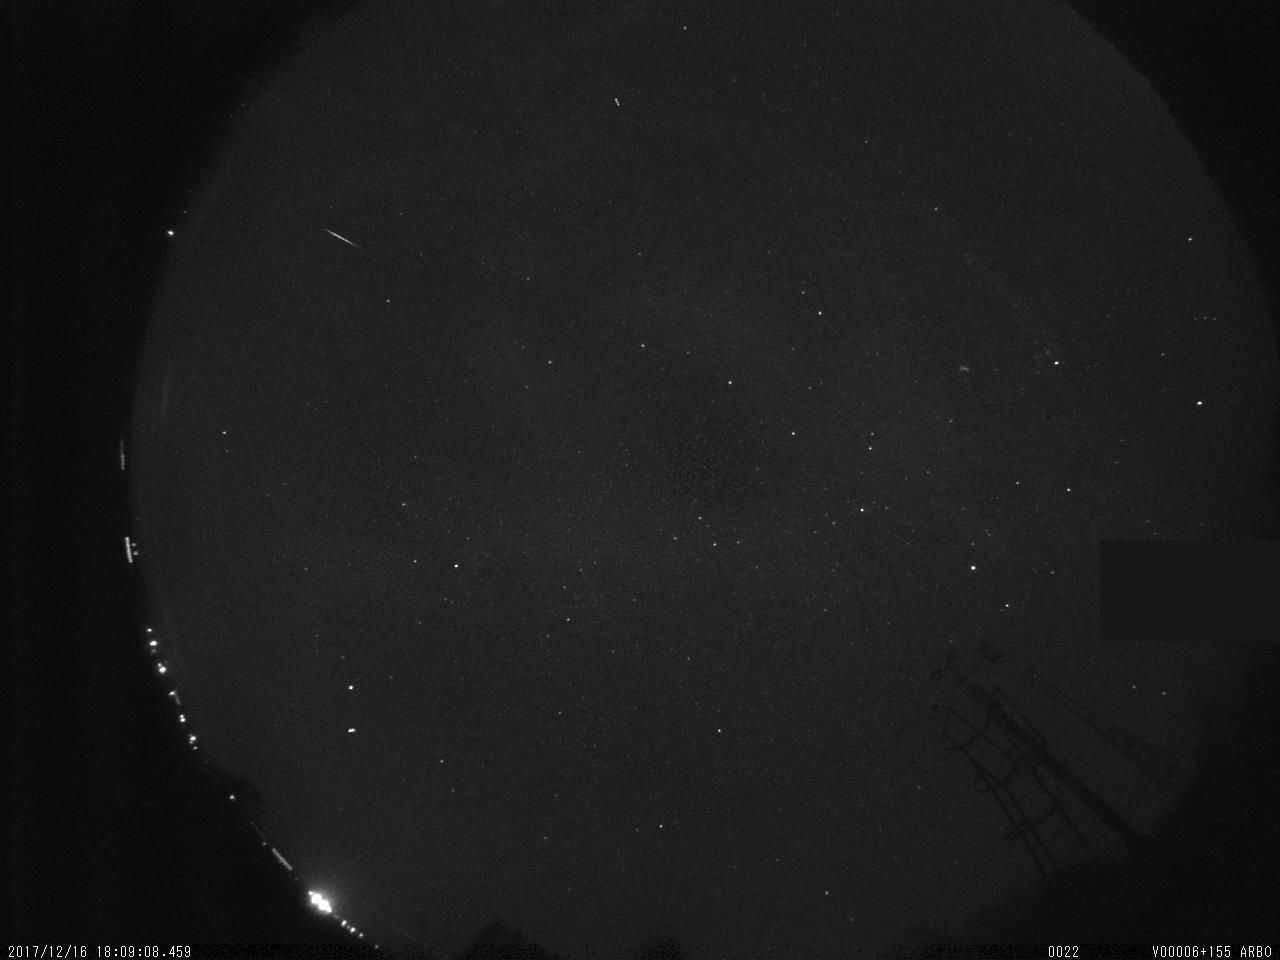Meteor: (325, 226, 360, 249)
